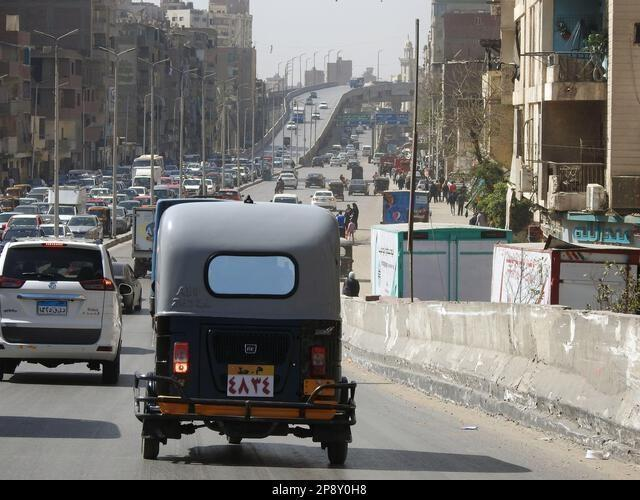keke: (142, 200, 360, 466)
